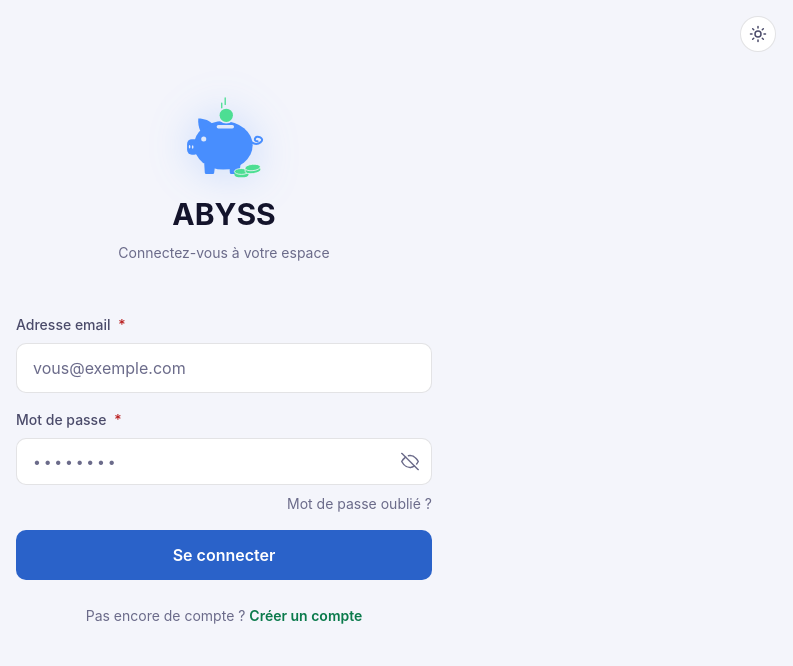
it: LoginPage — échec › affiche un message en cas de panne réseau
The image size is (793, 666).
Type "alice@example.com" into the field with id "login-email" at (224, 368), box [16, 343, 432, 393]
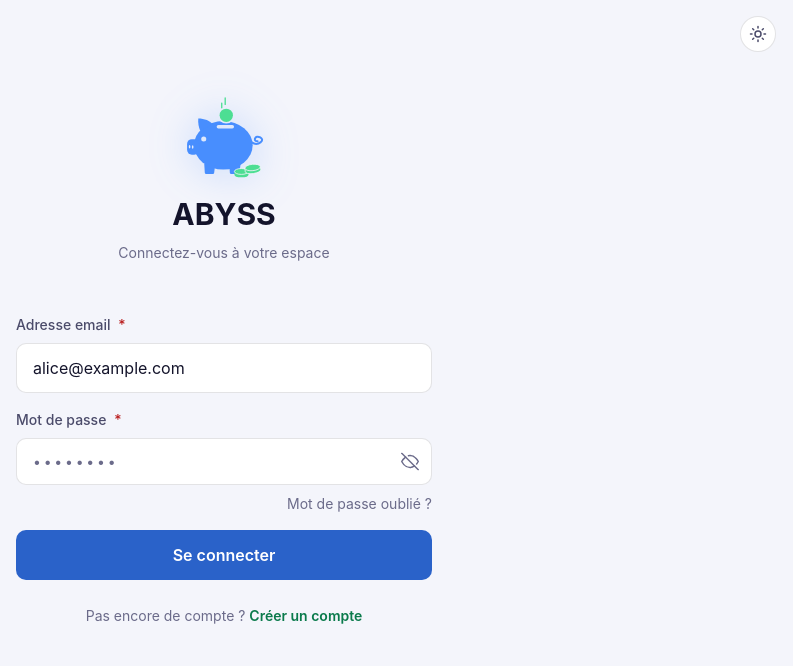
Type "password123" into the password field with id "login-password" at (224, 461), box [16, 438, 432, 485]
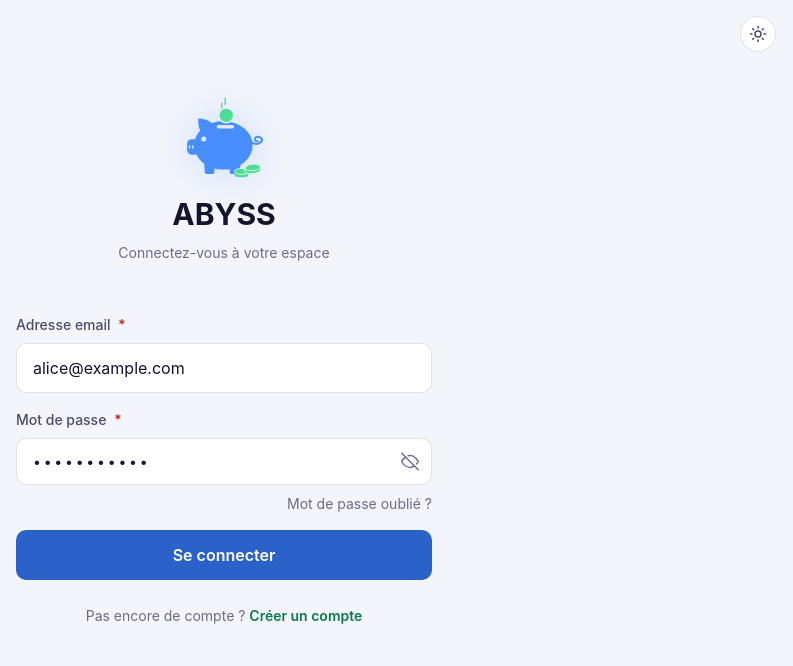
Submit the form, box [16, 314, 432, 580]
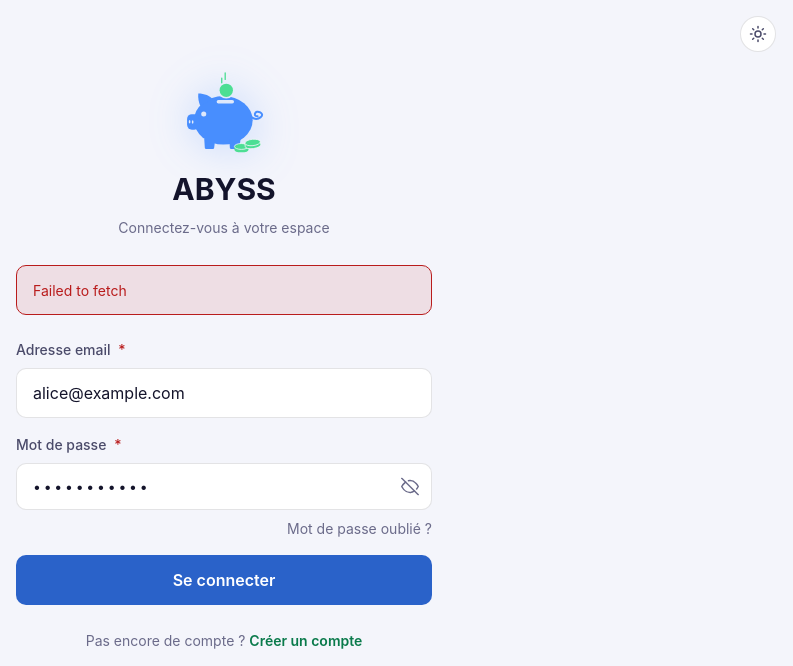
Check: the message "Failed to fetch" is shown, box [16, 265, 432, 315]
